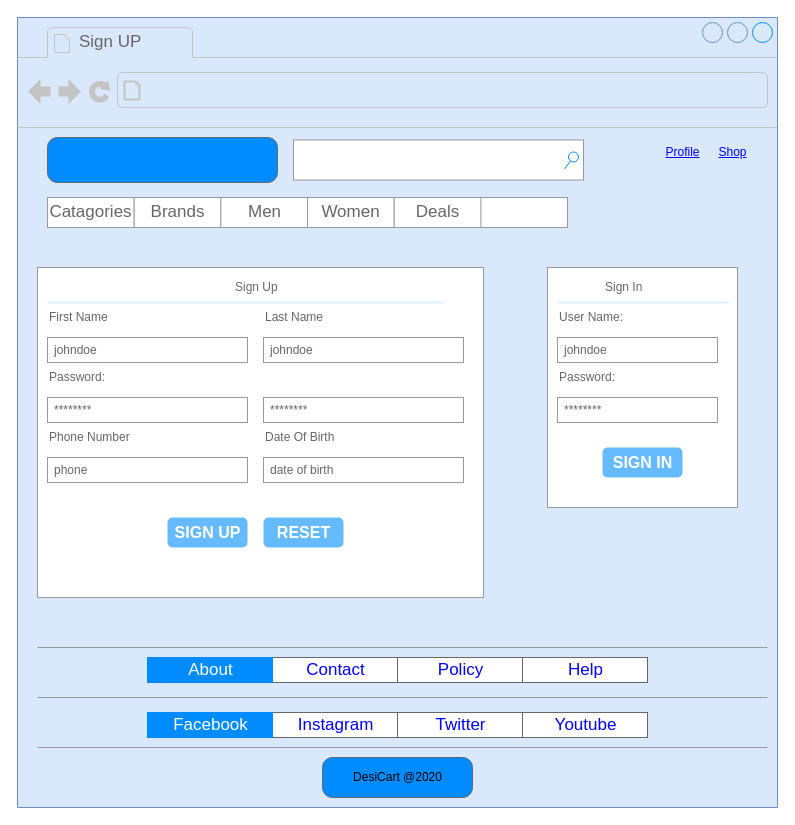
This 795x825 diagram has some shape labels left out. Here are the shapes that lost their labels. From the top down, the centre of each, then its label:
the point at 272,90: https://desicart.000webhostapp.com/signup.html
the point at 162,159: DesiCart Logo
the point at 438,159: Search
